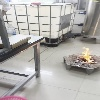fire: (79, 47, 93, 62)
